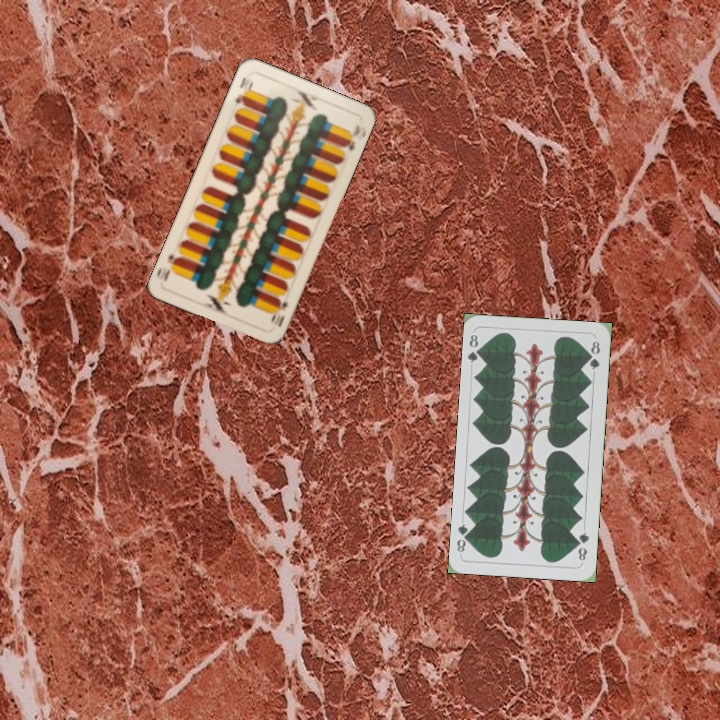E10: (231, 73, 256, 107), (267, 295, 290, 330)
G8: (464, 331, 485, 365), (573, 528, 592, 563)
